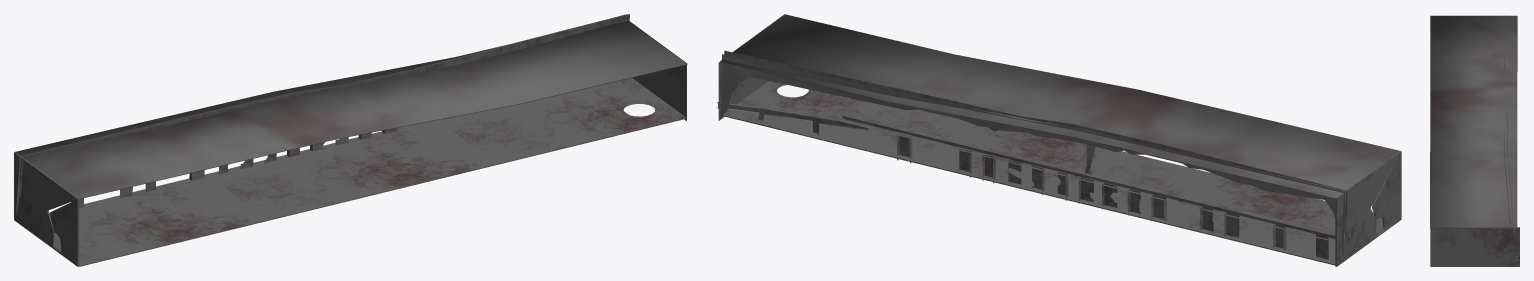
The model's file is salle_4_environnement.fbx.
3 renders of one model, left to right at view 1: azimuth 30°, elevation 25°; view 2: azimuth 150°, elevation 25°; view 3: azimuth 270°, elevation 25°, orthographic. The views are drawn at different scales.
Visible parts, largest first — view 1: sol_salle4, sol_salle4.002, fond, sol_salle4.003, sol_salle4.001; view 2: sol_salle4, sol_salle4.002, fond, sol_salle4.003, sol_salle4.001; view 3: sol_salle4, sol_salle4.001, fond, sol_salle4.003.
Boxes of the visible parts, x1,y1,x2,y2 form: sol_salle4: (15,21,687,198); sol_salle4.002: (49,78,686,266); fond: (16,14,629,214); sol_salle4.003: (14,152,79,266); sol_salle4.001: (628,20,686,120); sol_salle4: (720,14,1399,198); sol_salle4.002: (722,81,1383,265); fond: (717,50,1347,259); sol_salle4.003: (1335,151,1401,266); sol_salle4.001: (718,14,785,120); sol_salle4: (1430,16,1517,228); sol_salle4.001: (1430,227,1519,266); fond: (1504,60,1517,260); sol_salle4.003: (1430,15,1516,15).
Size of the model in its own units: 4060 by 461 by 752.
